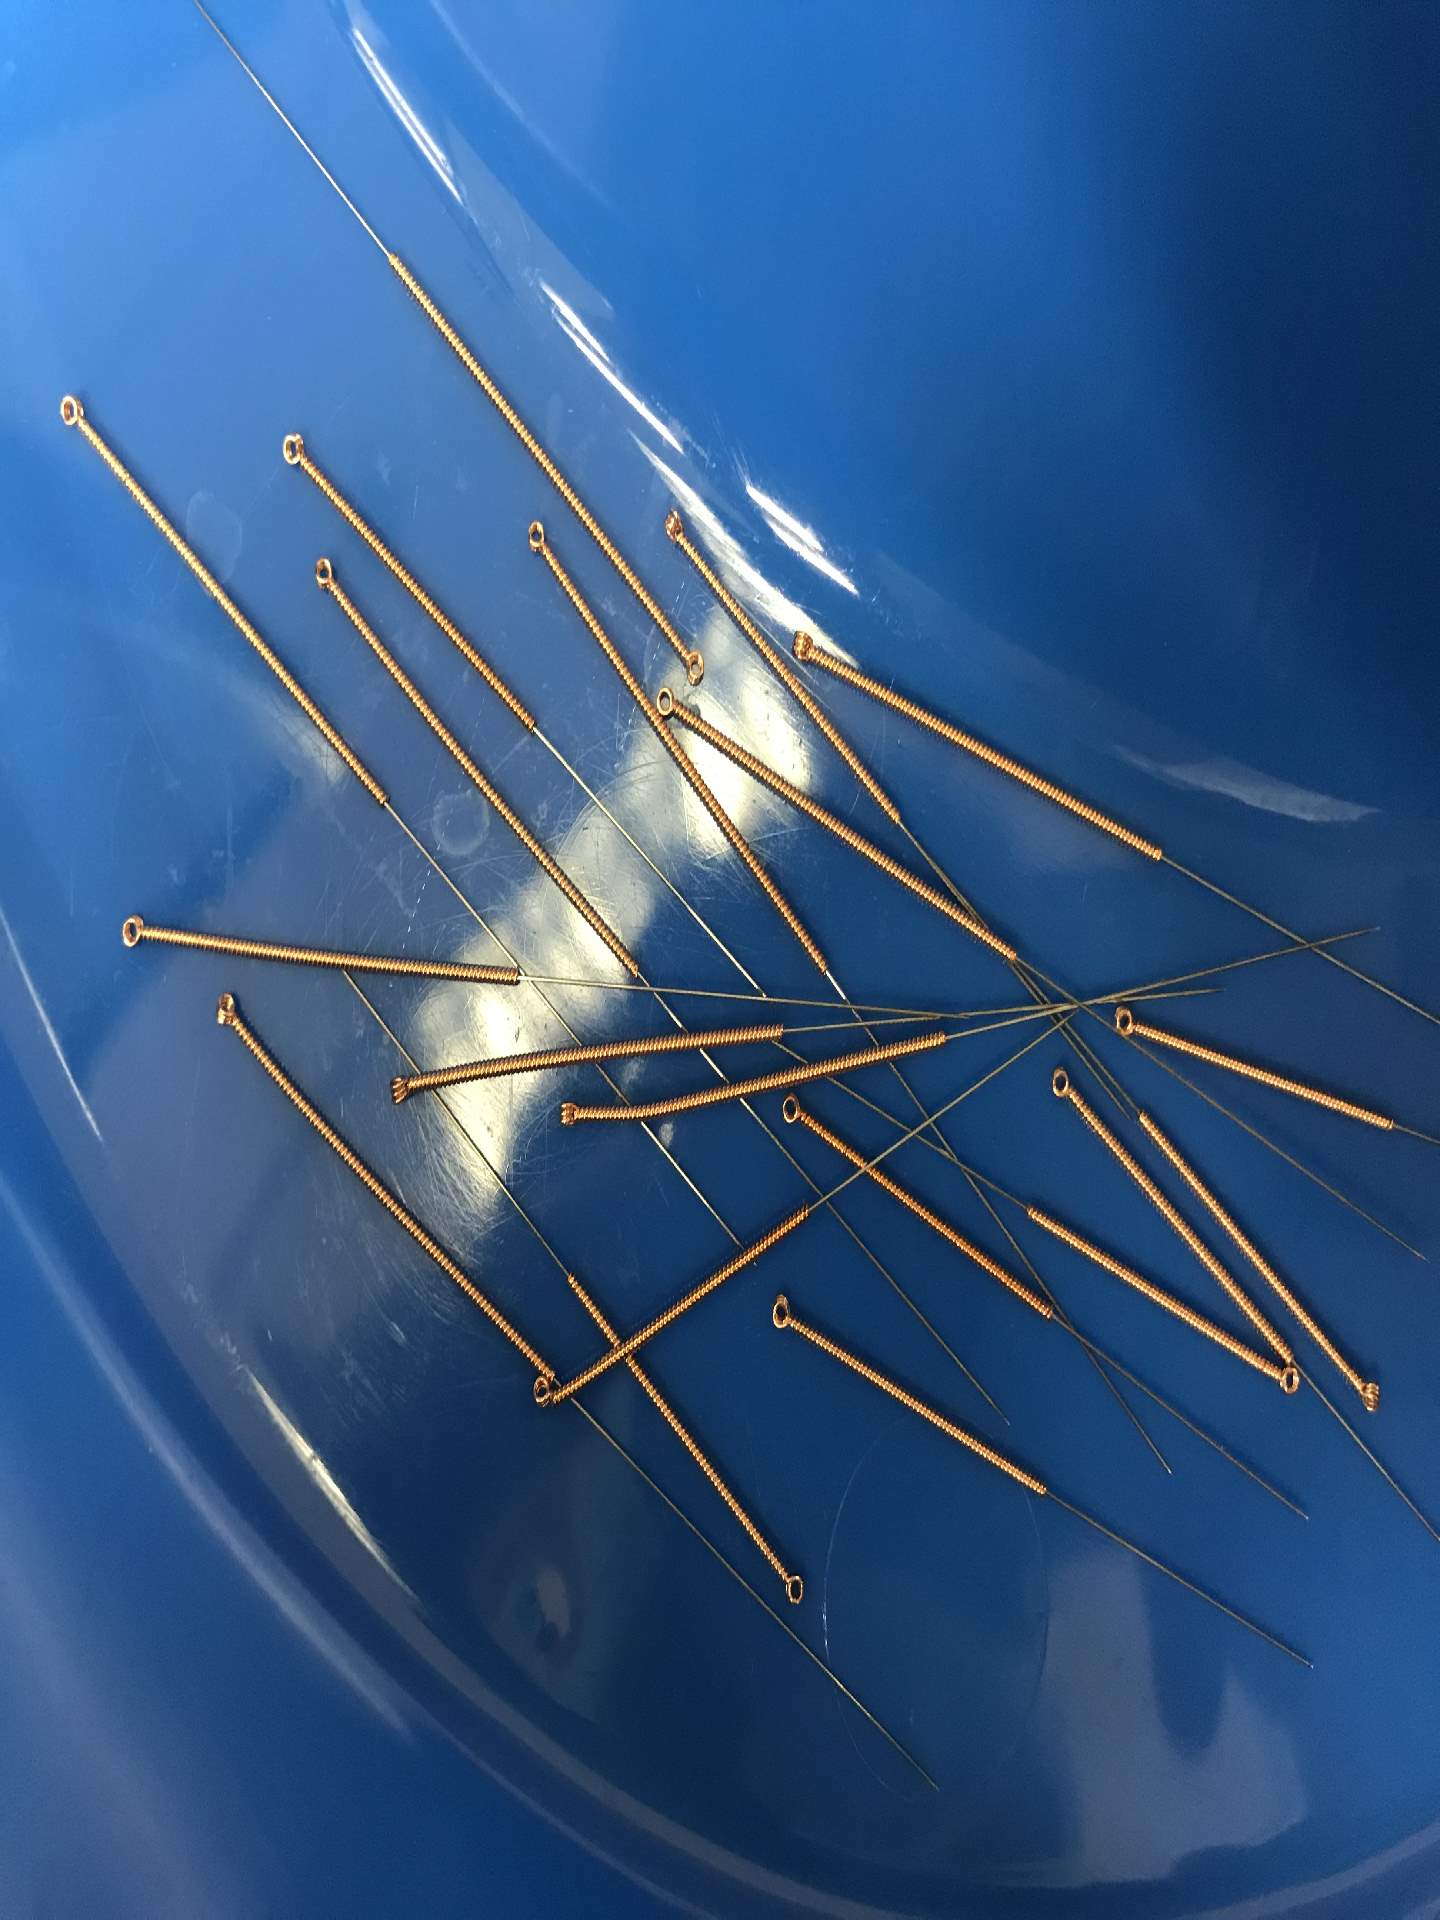needle: (106, 906, 160, 960), (269, 420, 319, 479), (48, 379, 95, 438), (768, 1554, 812, 1616), (206, 984, 251, 1042), (1041, 1054, 1085, 1113), (762, 1287, 808, 1342), (511, 508, 557, 564), (1345, 1365, 1389, 1423), (784, 618, 830, 670), (652, 497, 693, 556), (303, 544, 343, 602), (669, 636, 712, 689), (1103, 999, 1153, 1045), (771, 1089, 815, 1138), (548, 1092, 593, 1138), (1263, 1358, 1308, 1403), (520, 1370, 563, 1418), (381, 1064, 424, 1110), (652, 680, 690, 726)
